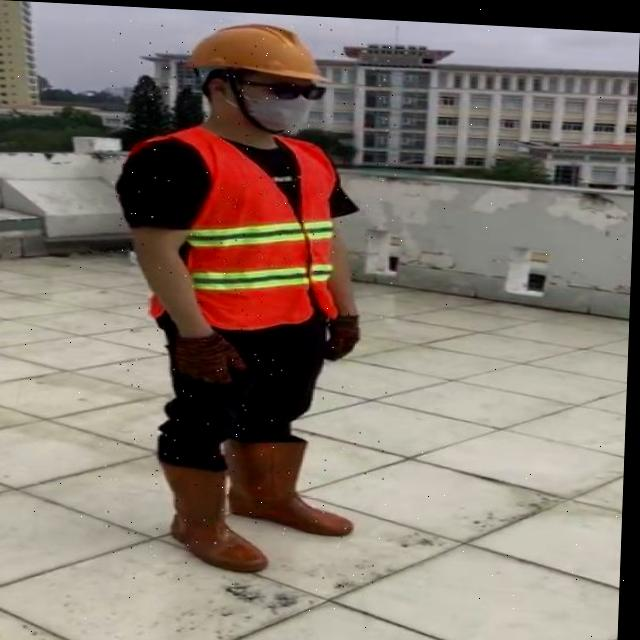Gloves: (177, 323, 253, 383), (327, 308, 364, 358)
Helmet: (184, 18, 337, 82)
Safety-Boot: (225, 430, 361, 533), (162, 454, 277, 570)
Safety-Vest: (121, 118, 363, 335)
